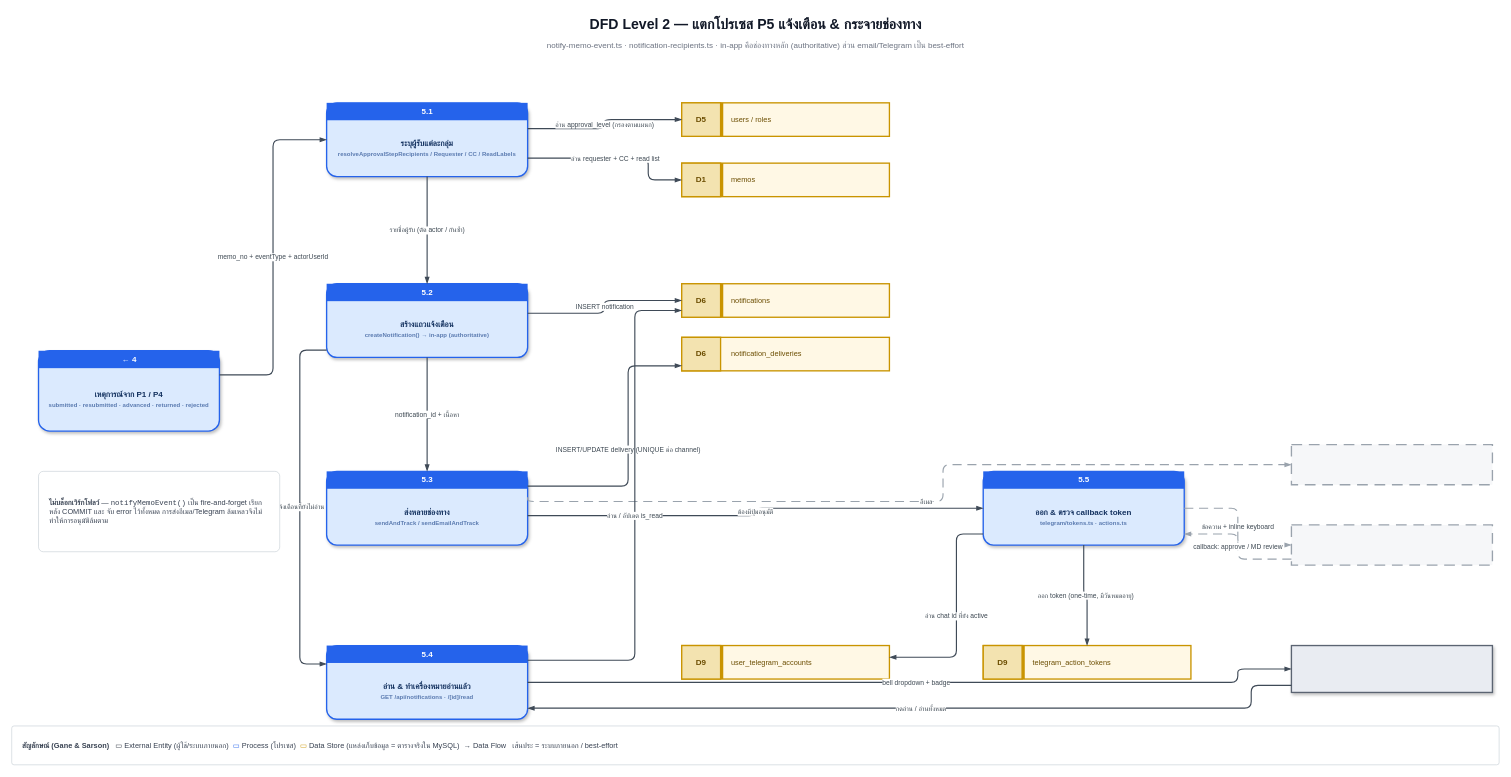
The diagram is 1511 pixels wide and 777 high, and some of its shapes have lost their labels. Here are the shapes that lost their labels. From the top down, the centre of each, then its label:
the point at 1391,464: SMTP Email Server
the point at 1391,544: Telegram Bot API
the point at 1392,669: ผู้รับแจ้งเตือน (ในระบบ)
